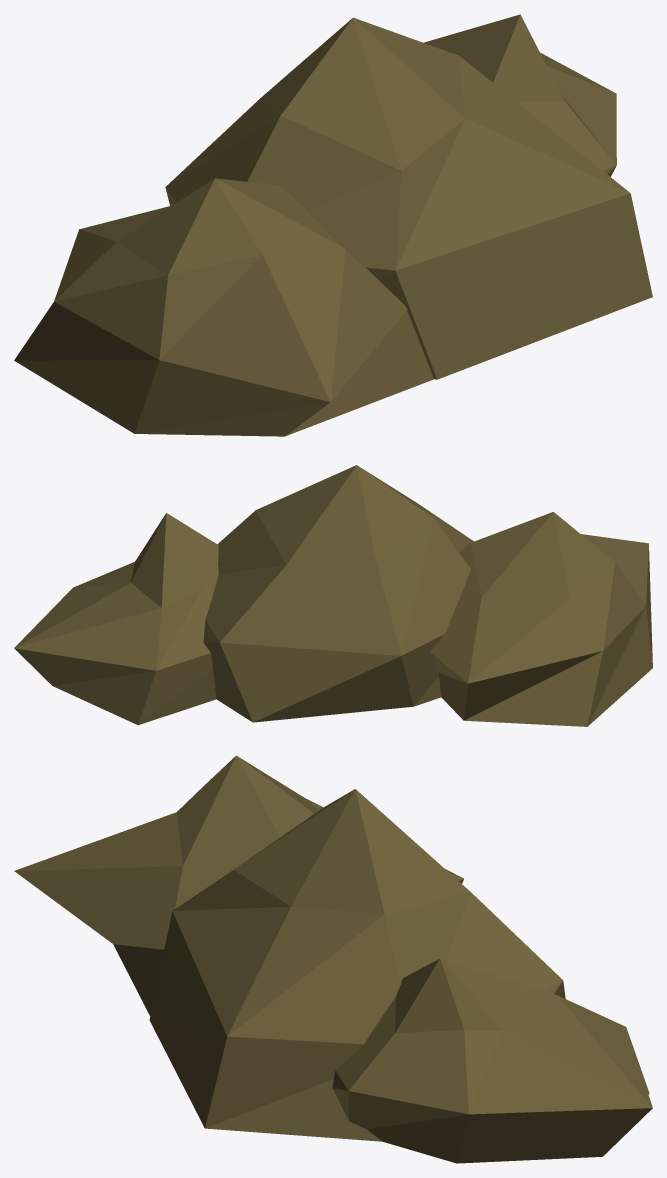
Rendered from bramble_2.obj.
3 renders of one model, top to bottom at view 1: azimuth 30°, elevation 25°; view 2: azimuth 150°, elevation 25°; view 3: azimuth 270°, elevation 25°, orthographic. The views are drawn at different scales.
Visible parts, largest first — view 1: bramble_2; view 2: bramble_2; view 3: bramble_2.
Boxes of the visible parts, left/top/right/bottom form: bramble_2: left=14, top=14, right=652, bottom=436; bramble_2: left=14, top=465, right=652, bottom=726; bramble_2: left=14, top=755, right=652, bottom=1163.
Bounding box in the file's own units: 0.7219 × 0.286 × 0.6772.
